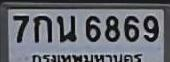6: (123, 15, 138, 41), (85, 15, 100, 41)
7: (12, 14, 28, 42)
8: (104, 15, 119, 41)
9: (143, 14, 158, 41)
A01: (33, 15, 51, 42)
A25: (56, 14, 75, 42)
